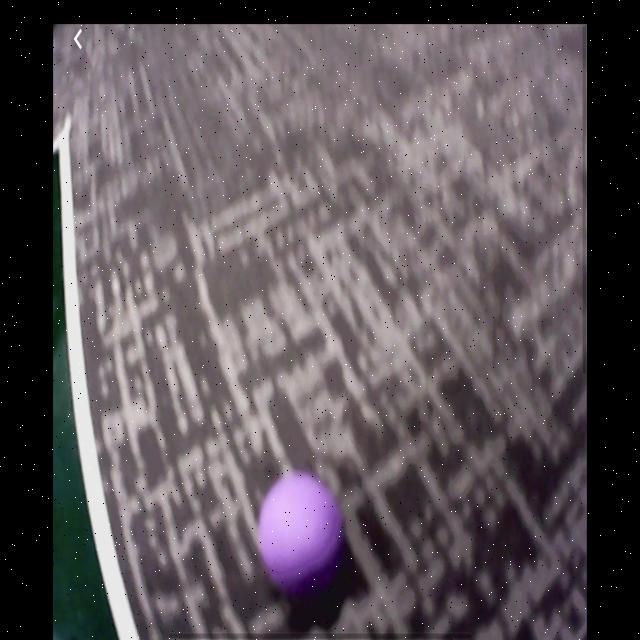ball: (257, 471, 346, 599)
